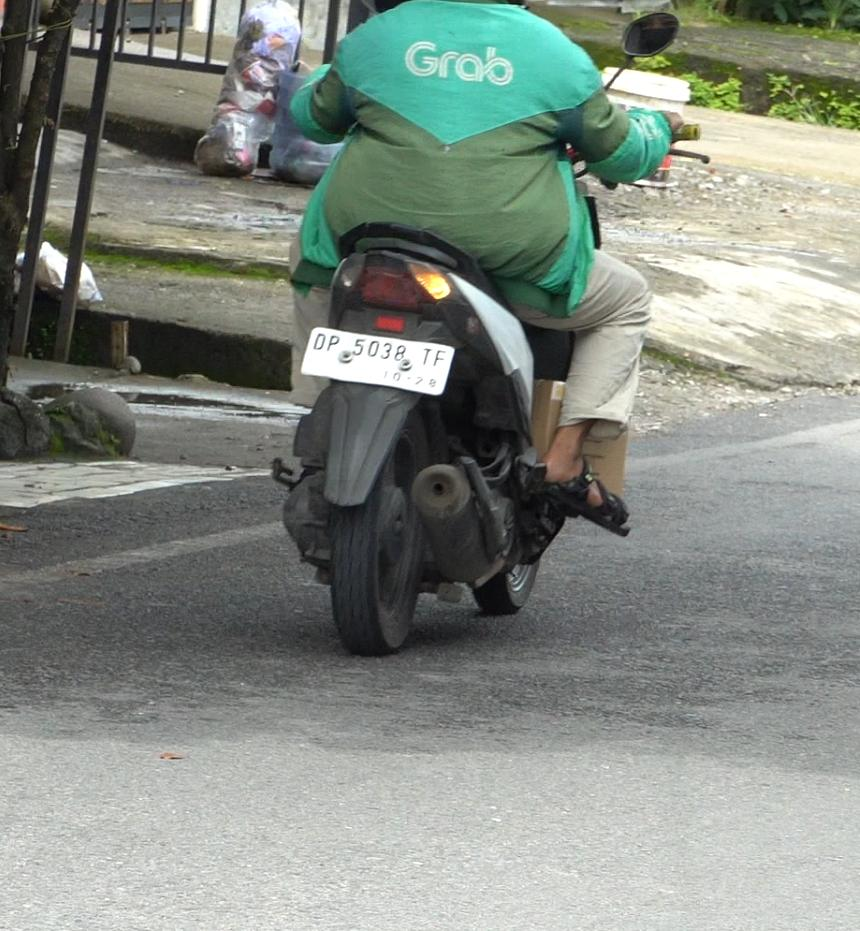number-plate: (303, 321, 455, 396)
